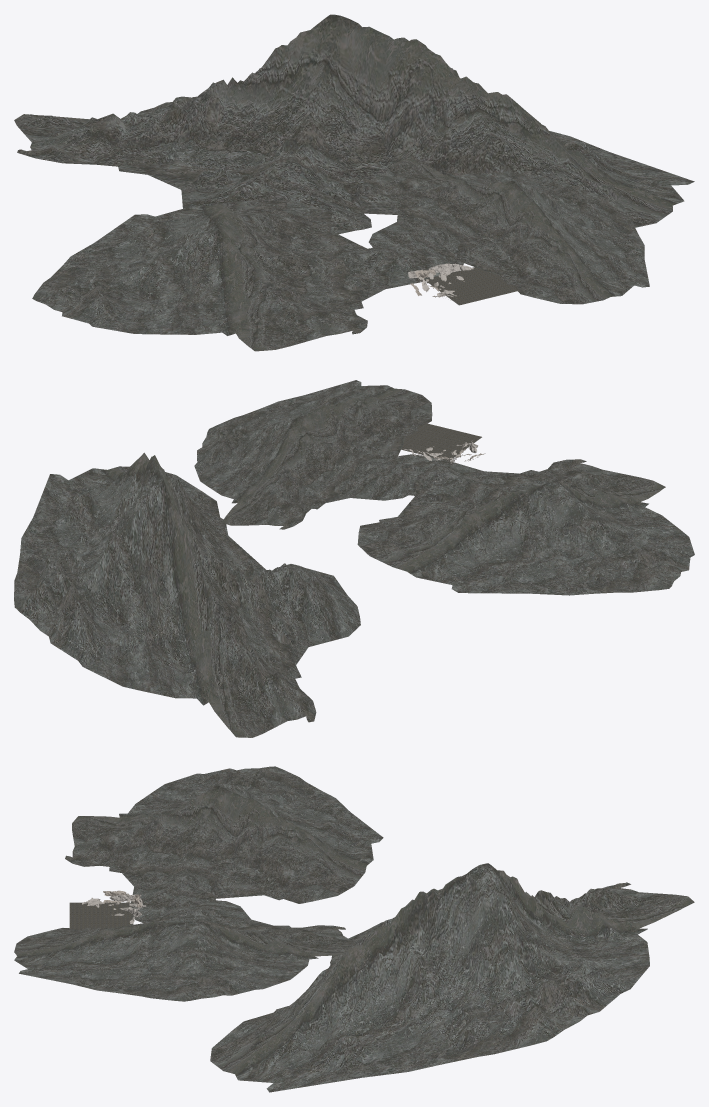
File: surrounds.gltf
3 renders of one model, top to bottom at view 1: azimuth 30°, elevation 25°; view 2: azimuth 150°, elevation 25°; view 3: azimuth 270°, elevation 25°, orthographic. The views are drawn at different scales.
Parts seen in each view (by area): view 1: MountainPeak (×3), Plane; view 2: MountainPeak (×3), Plane; view 3: MountainPeak (×3), Plane.
Part boxes in pixels (x1,y1,x2,y2): MountainPeak (×3): [14, 14, 694, 351]; Plane: [424, 267, 518, 305]; MountainPeak (×3): [14, 380, 694, 737]; Plane: [401, 423, 481, 461]; MountainPeak (×3): [14, 766, 694, 1092]; Plane: [69, 902, 133, 929].
Size of the model in its own units: 1076 by 215 by 1071.
